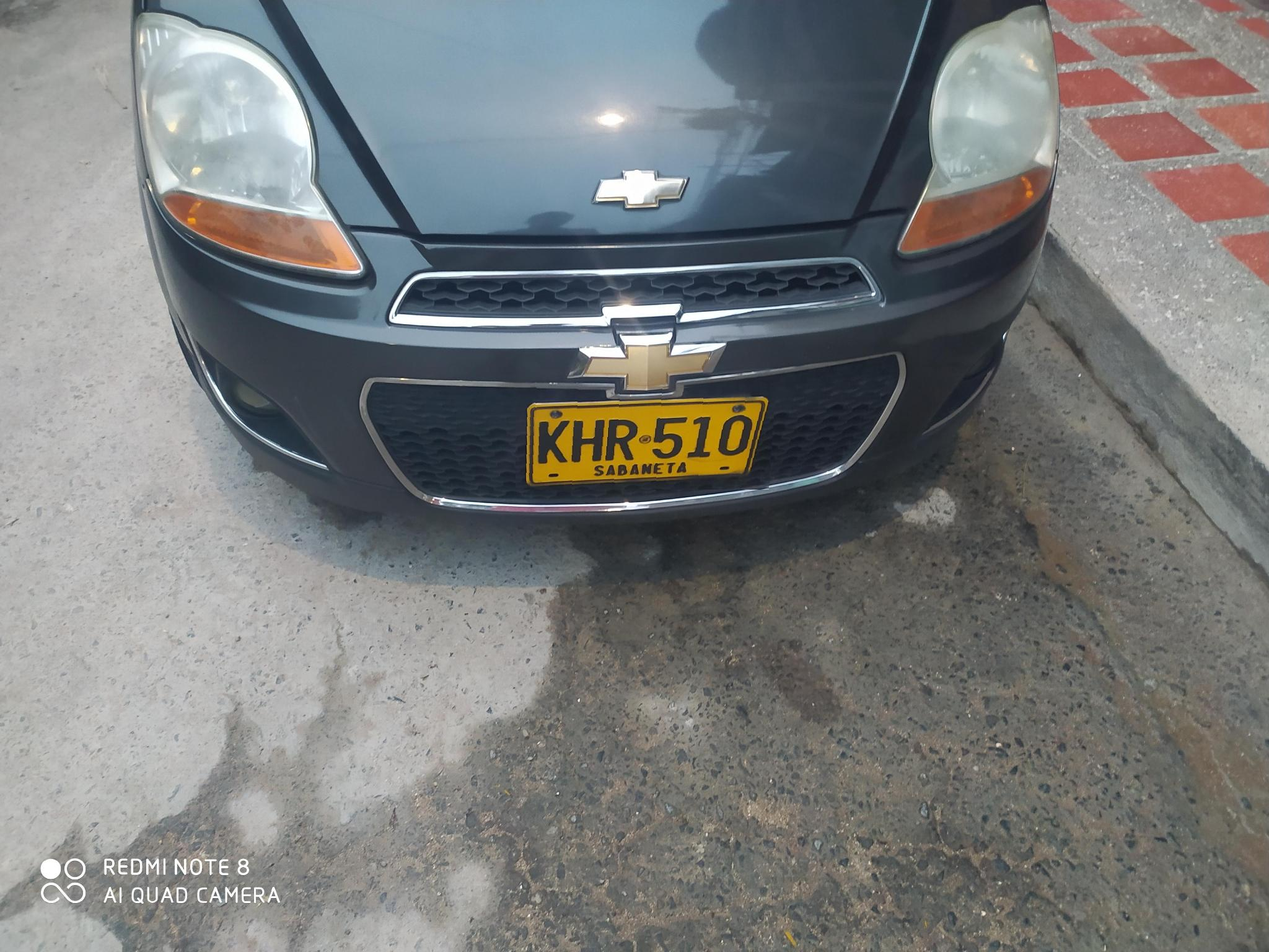placa: (516, 384, 776, 490)
